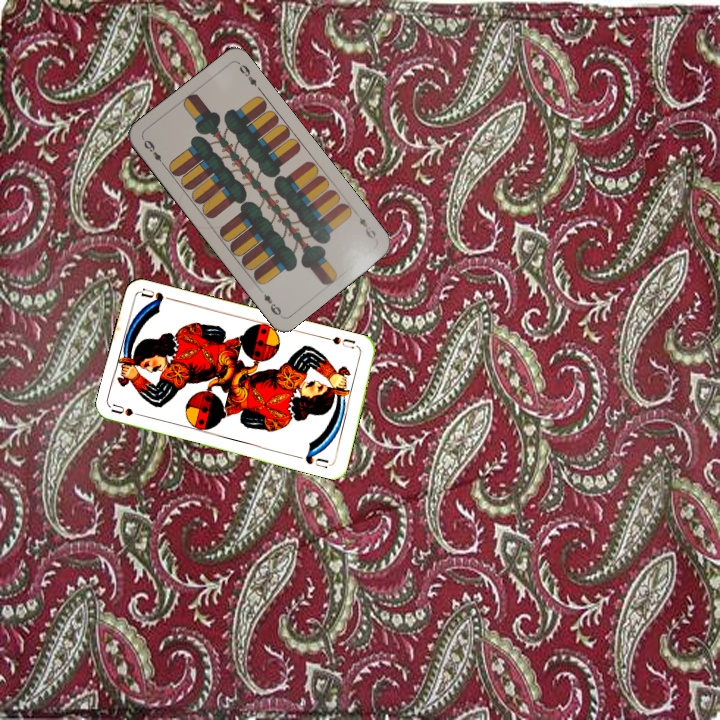E9: (139, 134, 168, 169), (355, 213, 379, 242)
SU: (109, 400, 149, 420), (321, 332, 361, 351)
